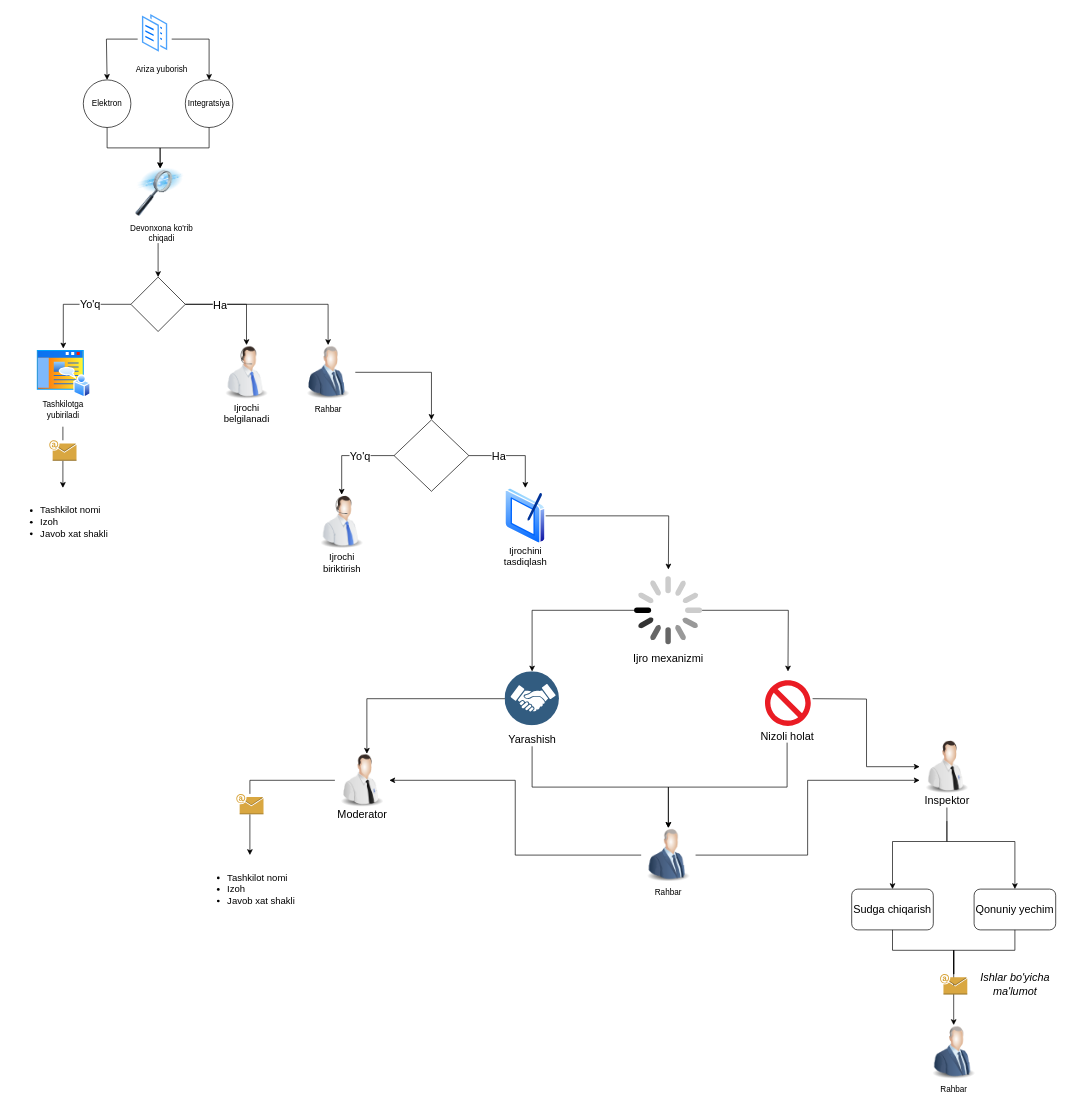
This 1068x1108 diagram has some shape labels left out. The centre of each missing label's shape, as x and y in pixels:
"Ijrochidan qoniqdimi?" goes at pixel 431 455.
"Taluqlimi ?" goes at pixel 157 304.
